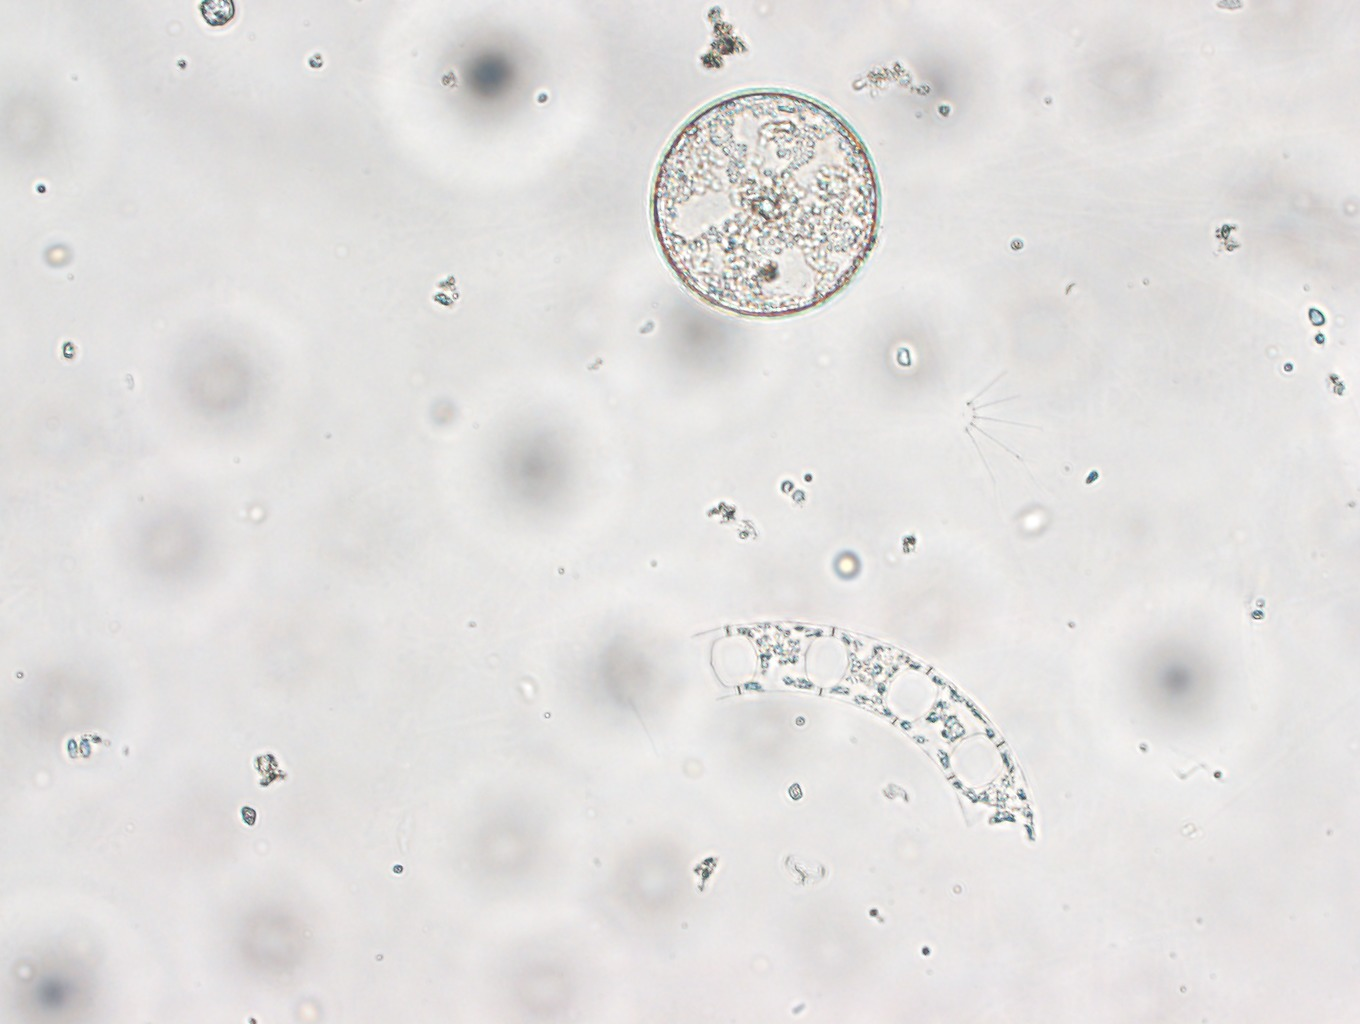coscinodiscus: (649, 86, 881, 316)
eucampia: (687, 617, 1036, 847)
